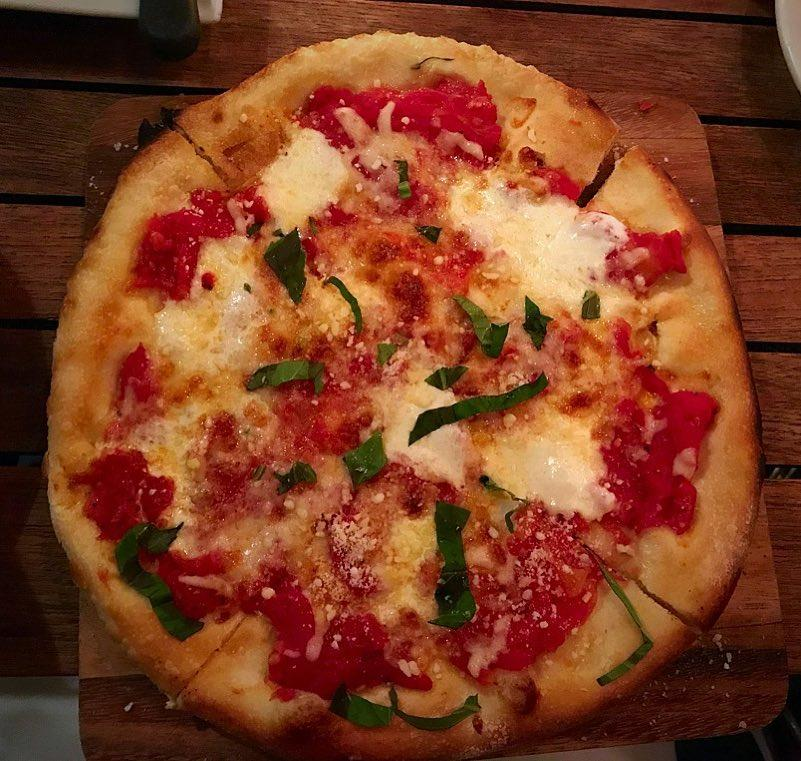Basil: (121, 500, 208, 638), (403, 373, 559, 445), (451, 288, 606, 353), (431, 483, 478, 633), (243, 353, 336, 391), (268, 238, 316, 311), (336, 426, 390, 483)
Cheese: (458, 178, 629, 325), (485, 405, 621, 523), (170, 230, 258, 398), (296, 513, 432, 617), (361, 375, 466, 473), (256, 126, 363, 215)
Pizza: (51, 33, 758, 761)
